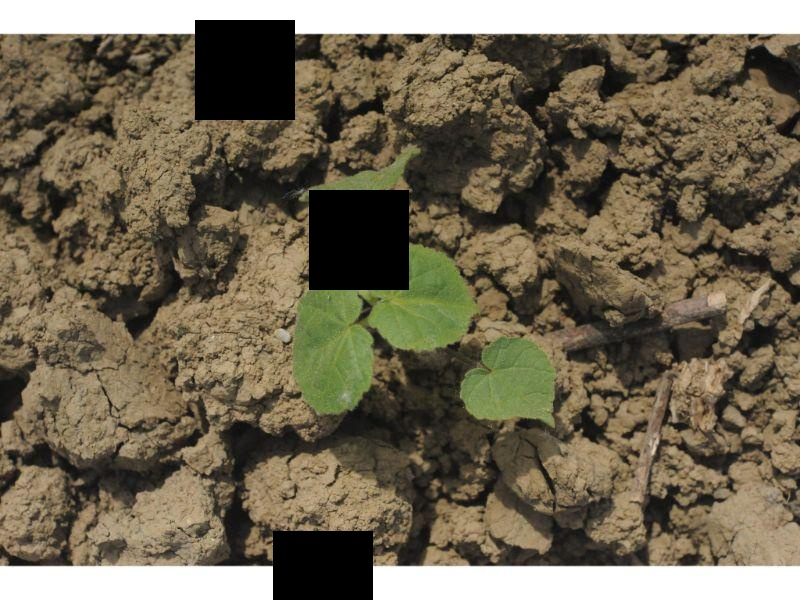velvet: (292, 148, 558, 433)
